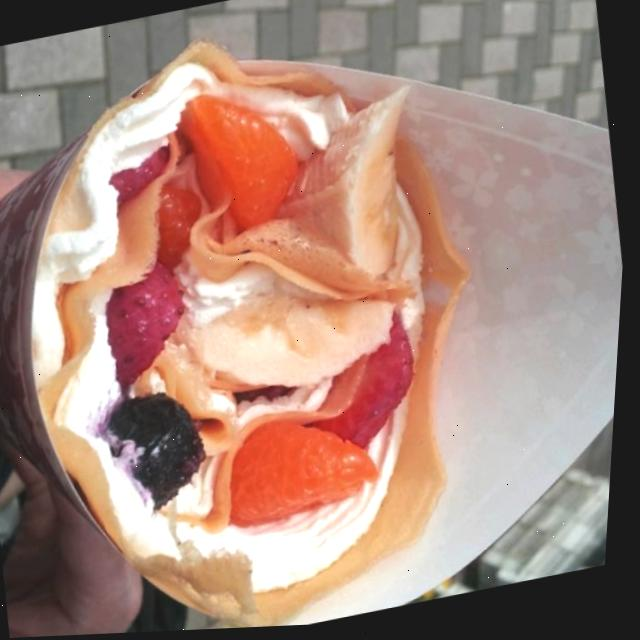面条主食: (0, 0, 638, 640)
